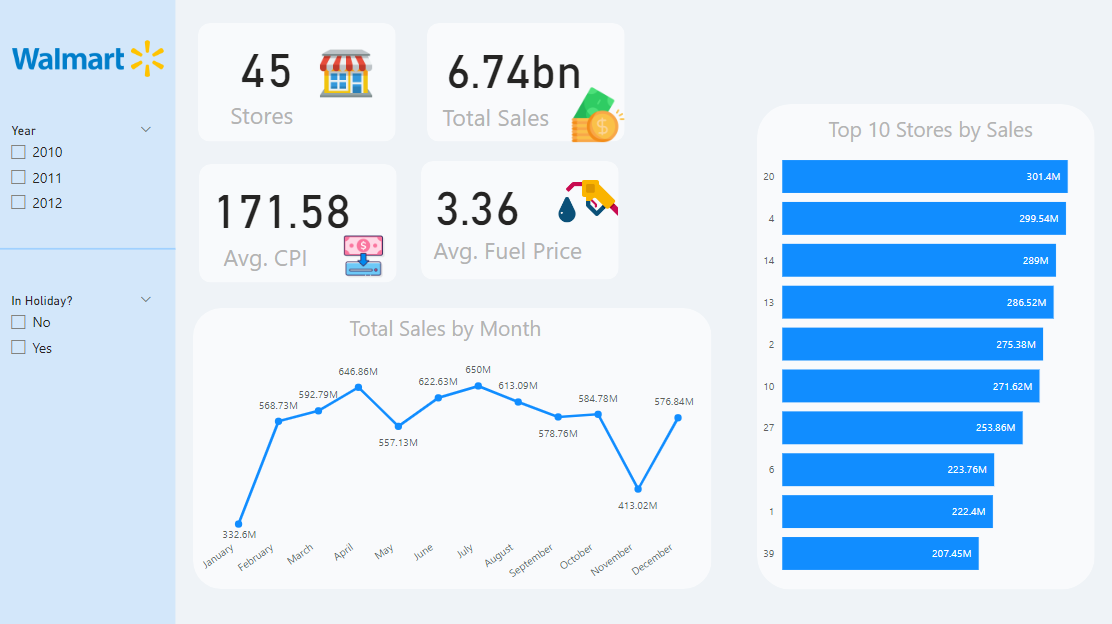

Layout of this report page (visuals, bound fields, positions):
{"tool":"powerbi","page":{"name":"Dashboard","canvas":[1280,720],"ordinal":0},"visuals":[{"type":"shape","box":[227.4,26.7,227.5,136.5],"z":0},{"type":"card","fields":{"Values":["Count(Walmart_Sales.Store)"]},"box":[261.7,38.6,89.5,69.8],"z":1000},{"type":"textbox","box":[260.1,108.4,94,53.1],"z":2000},{"type":"image","box":[359.9,49.3,75,70],"z":3000},{"type":"shape","box":[490.7,26.1,227.5,136.5],"z":4000},{"type":"card","fields":{"Values":["Sum(Walmart_Sales.Weekly_Sales)"]},"box":[503.4,40.3,174.4,69.8],"z":5000},{"type":"textbox","box":[503.4,110.1,142.6,53.1],"z":6000},{"type":"image","box":[646,94.9,83.4,72.8],"z":7000},{"type":"shape","box":[221.3,354.6,596,323],"z":8000},{"type":"textbox","box":[396.6,354.9,235.5,49.6],"z":9000},{"type":"lineChart","fields":{"Category":["Walmart_Sales.Date.Variation.Date Hierarchy.Month"],"Y":["Sum(Walmart_Sales.Weekly_Sales)"]},"box":[221.3,404.6,580.9,282.1],"z":10000},{"type":"shape","box":[870,120,388.3,558.3],"z":11000},{"type":"clusteredBarChart","fields":{"Category":["Walmart_Sales.Store"],"Y":["Sum(Walmart_Sales.Weekly_Sales)"]},"box":[870,151.7,410,528.3],"z":12000},{"type":"textbox","box":[946.7,126.7,253.3,50],"z":13000},{"type":"shape","box":[228.8,188.1,227.5,136.5],"z":14000},{"type":"card","fields":{"Values":["Avg(Walmart_Sales.CPI)"]},"box":[238.4,202.4,171.4,68.6],"z":15000},{"type":"textbox","box":[251.3,271.5,108.2,53],"z":16000},{"type":"image","box":[381.5,259.3,73.3,70],"z":17000},{"type":"shape","box":[483.8,184.8,227.5,136.5],"z":18000},{"type":"card","fields":{"Values":["Avg(Walmart_Sales.Fuel_Price)"]},"box":[493.2,199.3,111.7,68.3],"z":19000},{"type":"textbox","box":[493.5,263.7,182.5,55.2],"z":20000},{"type":"image","box":[632.7,186.5,87.8,90],"z":21000},{"type":"shape","box":[0,0,201.7,720],"z":22000},{"type":"slicer","fields":{"Values":["Walmart_Sales.Date.Variation.Date Hierarchy.Year"]},"box":[0,136.7,186.7,130],"z":23000},{"type":"slicer","fields":{"Values":["Walmart_Sales.Holiday_Flag"]},"box":[0,331.7,186.7,96.7],"z":24000},{"type":"shape","box":[0,270,201.7,31.7],"z":25000},{"type":"image","box":[0,3.3,201.7,128.3],"z":26000}]}

Visuals, with their boxes in screenshot pixels (x1, y1, x2, y2), scaled from the page's 1280x720 canvas onto the 1112x624 screenshot:
shape: 198:23:395:141
card - Count(Walmart_Sales.Store): 227:33:305:94
textbox: 226:94:308:140
image: 313:43:378:103
shape: 426:23:624:141
card - Sum(Walmart_Sales.Weekly_Sales): 437:35:589:95
textbox: 437:95:561:141
image: 561:82:634:145
shape: 192:307:710:587
textbox: 345:308:549:351
lineChart - Walmart_Sales.Date.Variation.Date Hierarchy.Month x Sum(Walmart_Sales.Weekly_Sales): 192:351:697:595
shape: 756:104:1093:588
clusteredBarChart - Walmart_Sales.Store x Sum(Walmart_Sales.Weekly_Sales): 756:131:1111:589
textbox: 822:110:1042:153
shape: 199:163:396:281
card - Avg(Walmart_Sales.CPI): 207:175:356:235
textbox: 218:235:312:281
image: 331:225:395:285
shape: 420:160:618:278
card - Avg(Walmart_Sales.Fuel_Price): 428:173:526:232
textbox: 429:229:587:276
image: 550:162:626:240
shape: 0:0:175:623
slicer - Walmart_Sales.Date.Variation.Date Hierarchy.Year: 0:118:162:231
slicer - Walmart_Sales.Holiday_Flag: 0:287:162:371
shape: 0:234:175:261
image: 0:3:175:114
